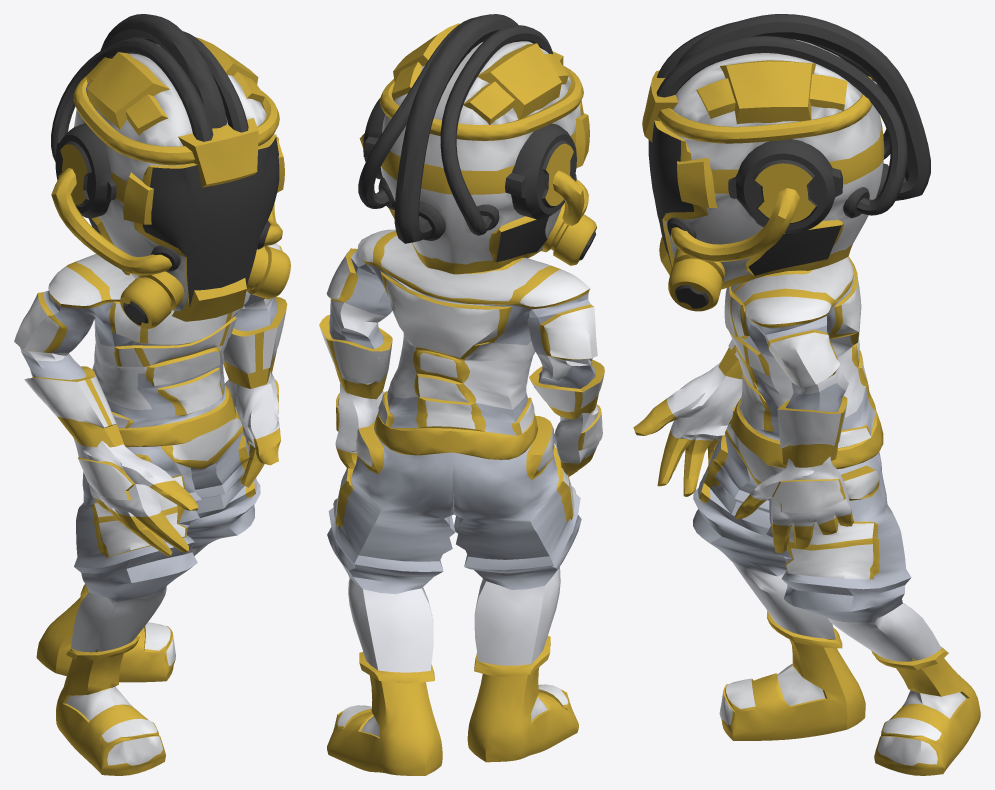
Rendered from av-astronauta-perdido.glb.
3 renders of one model, left to right at view 1: azimuth 30°, elevation 25°; view 2: azimuth 150°, elevation 25°; view 3: azimuth 270°, elevation 25°, orthographic. The views are drawn at different scales.
Parts seen in each view (by area): view 1: SpaceSuit_Body; view 2: SpaceSuit_Body; view 3: SpaceSuit_Body.
Part boxes in pixels (x1,y1,x2,y2): SpaceSuit_Body: (14, 14, 290, 775); SpaceSuit_Body: (319, 14, 604, 775); SpaceSuit_Body: (633, 14, 980, 775).
Bounding box in the file's own units: 0.5676 × 1.44 × 0.6114.
Materials: 1 (1 with a texture image).
